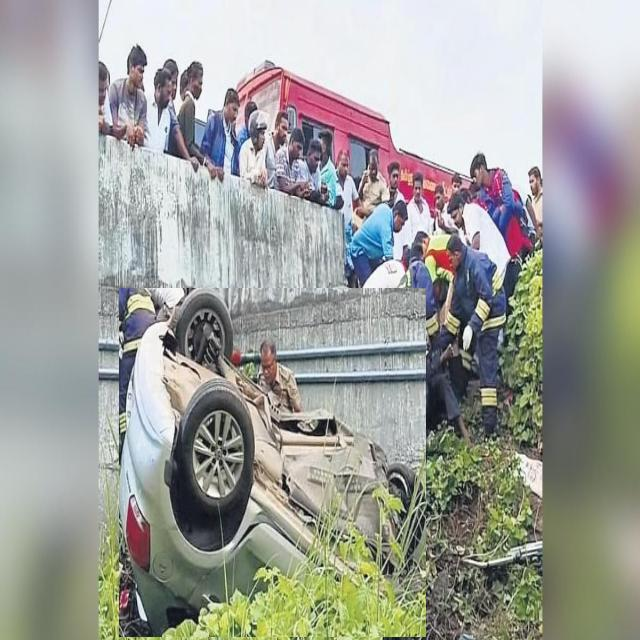accident: (119, 289, 426, 637)
